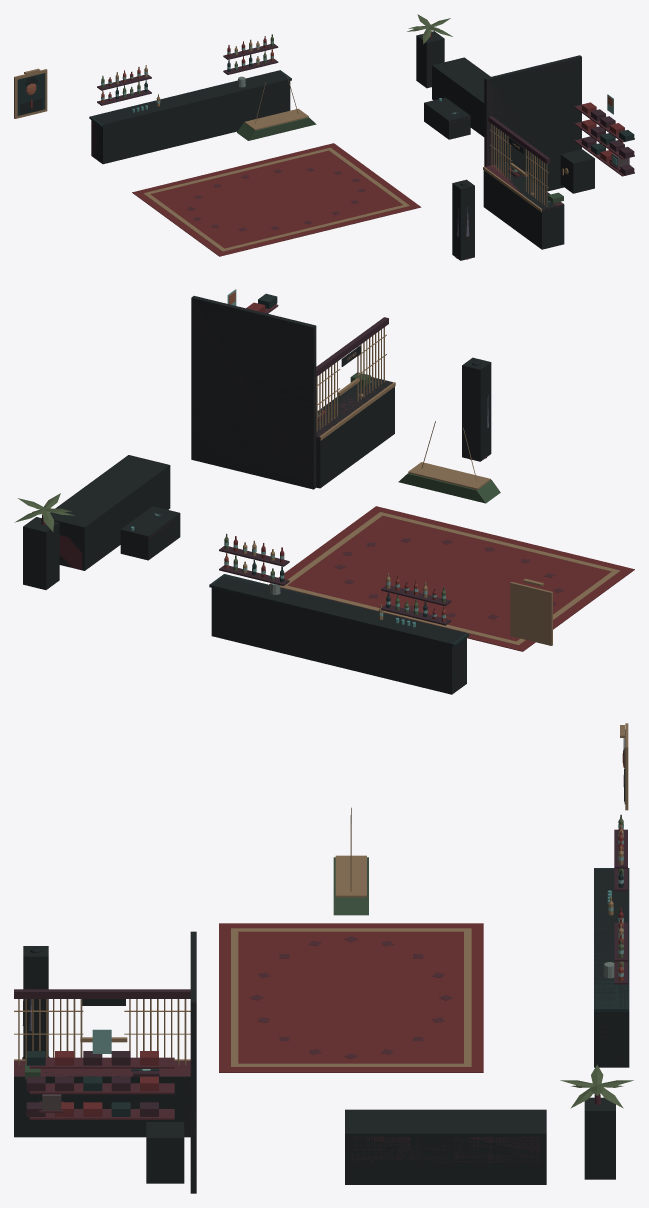
Rendered from decor_casino.glb.
3 views of the same model, one above another, from view 1: azimuth 30°, elevation 25°; view 2: azimuth 150°, elevation 25°; view 3: azimuth 270°, elevation 25° (orthographic). The views are drawn at different scales.
Parts seen in each view (by area): view 1: Coliziune, Decor; view 2: Coliziune, Decor; view 3: Decor, Coliziune.
Boxes of the visible parts, x1,y1,x2,y2 form: Coliziune: (91,31,594,260); Decor: (14,14,634,259); Coliziune: (23,296,491,694); Decor: (14,289,634,684); Decor: (14,723,633,1182); Coliziune: (14,869,629,1193).
Bounding box in the file's own units: 11.85 × 3.35 × 9.85.
